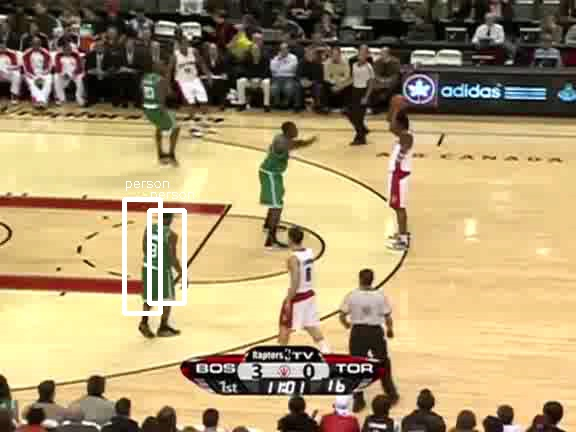person: (140, 227, 174, 308), (139, 227, 173, 308), (141, 227, 175, 308), (140, 226, 174, 307), (140, 228, 174, 309)
target_negative: (37, 109, 309, 341), (293, 266, 535, 395), (318, 170, 489, 335), (300, 222, 385, 415), (479, 17, 526, 358), (151, 406, 412, 409)
